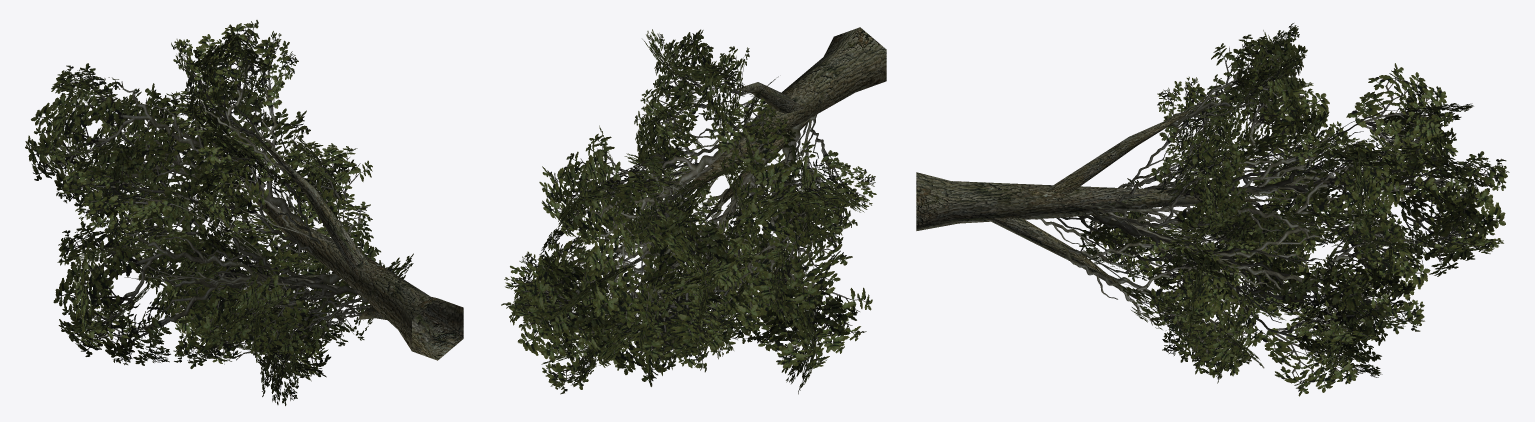
Rendered from MEP_Oak_03.fbx.
3 views of the same model, side by side, from view 1: azimuth 30°, elevation 25°; view 2: azimuth 150°, elevation 25°; view 3: azimuth 270°, elevation 25° (orthographic). The views are drawn at different scales.
Parts seen in each view (by area): view 1: MEP_Oak_03, MEP_Oak_Trunk_03; view 2: MEP_Oak_03, MEP_Oak_Trunk_03; view 3: MEP_Oak_03, MEP_Oak_Trunk_03.
Part boxes in pixels (x1=…): MEP_Oak_03: x1=25, y1=20, x2=413, y2=405; MEP_Oak_Trunk_03: x1=247, y1=135, x2=463, y2=360; MEP_Oak_03: x1=501, y1=29, x2=876, y2=394; MEP_Oak_Trunk_03: x1=674, y1=27, x2=886, y2=224; MEP_Oak_03: x1=1035, y1=23, x2=1509, y2=396; MEP_Oak_Trunk_03: x1=916, y1=103, x2=1271, y2=299.
Bounding box in the file's own units: 12.6 × 13.84 × 21.52.
